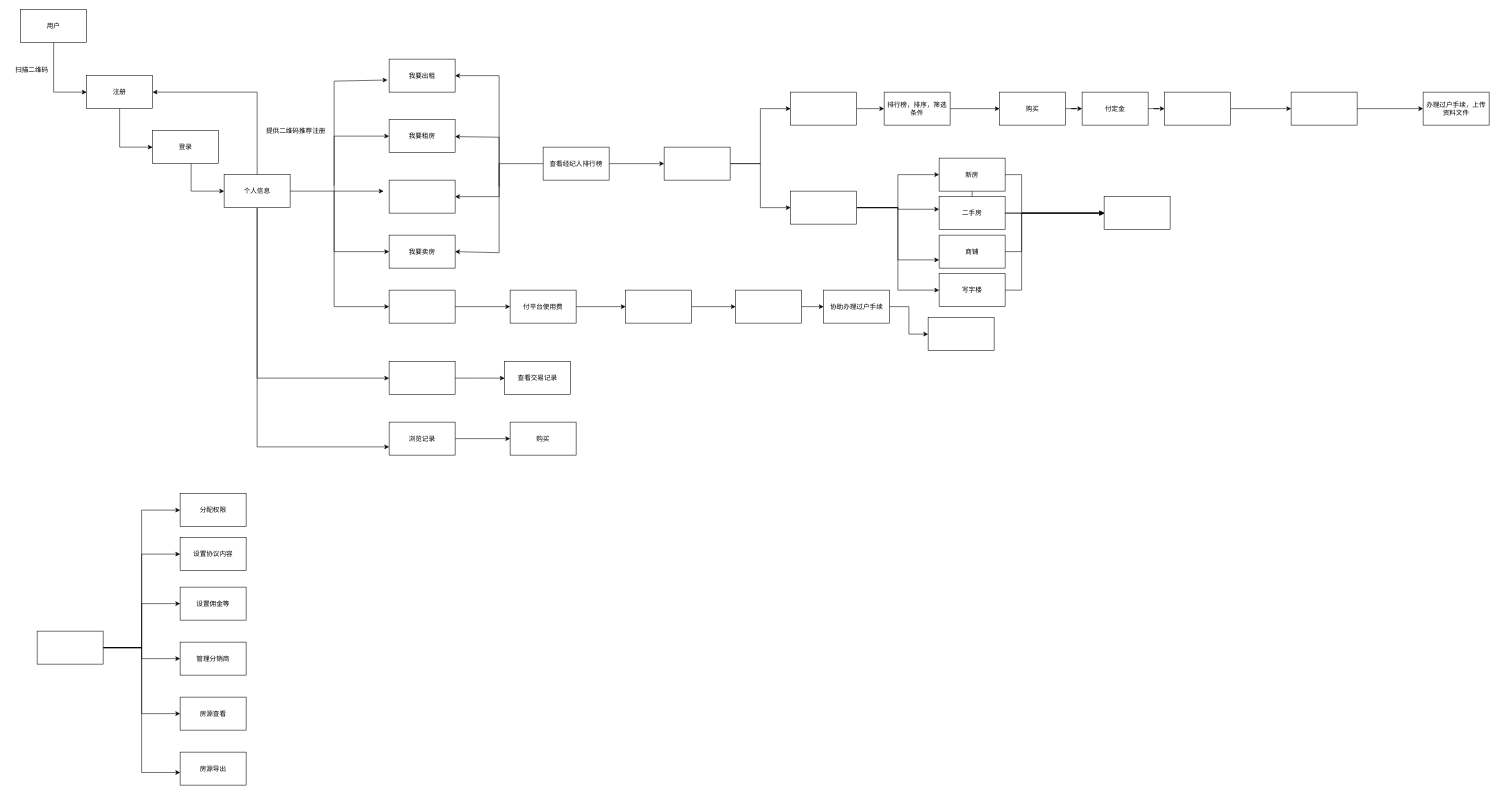
This 1499x795 diagram has some shape labels left out. Here are the shapes that lost their labels. From the top down, the centre of each, then its label:
At pixel 823 108: "查看房源".
At pixel 1197 108: "锁定房源".
At pixel 1324 108: "付清尾款".
At pixel 697 163: "选择经纪人".
At pixel 422 196: "我要买房".
At pixel 823 207: "录入房源信息".
At pixel 1137 213: "发布为热点房源".
At pixel 422 306: "我是经纪人".
At pixel 658 306: "被授权查看房源".
At pixel 768 306: "成交".
At pixel 961 334: "结算佣金".
At pixel 422 378: "我的交易".
At pixel 70 647: "后台管理员".
